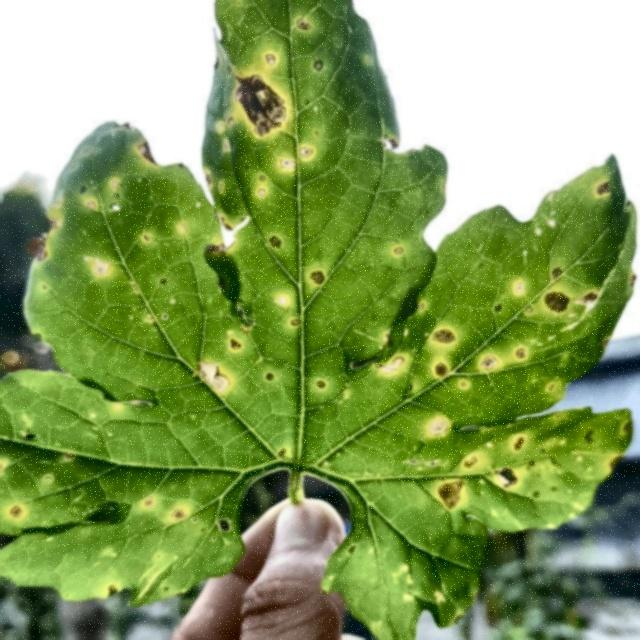shot_hole: (370, 189, 594, 541), (211, 2, 350, 222)
